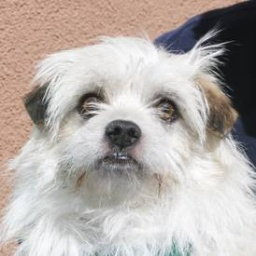dog: (8, 32, 256, 256)
